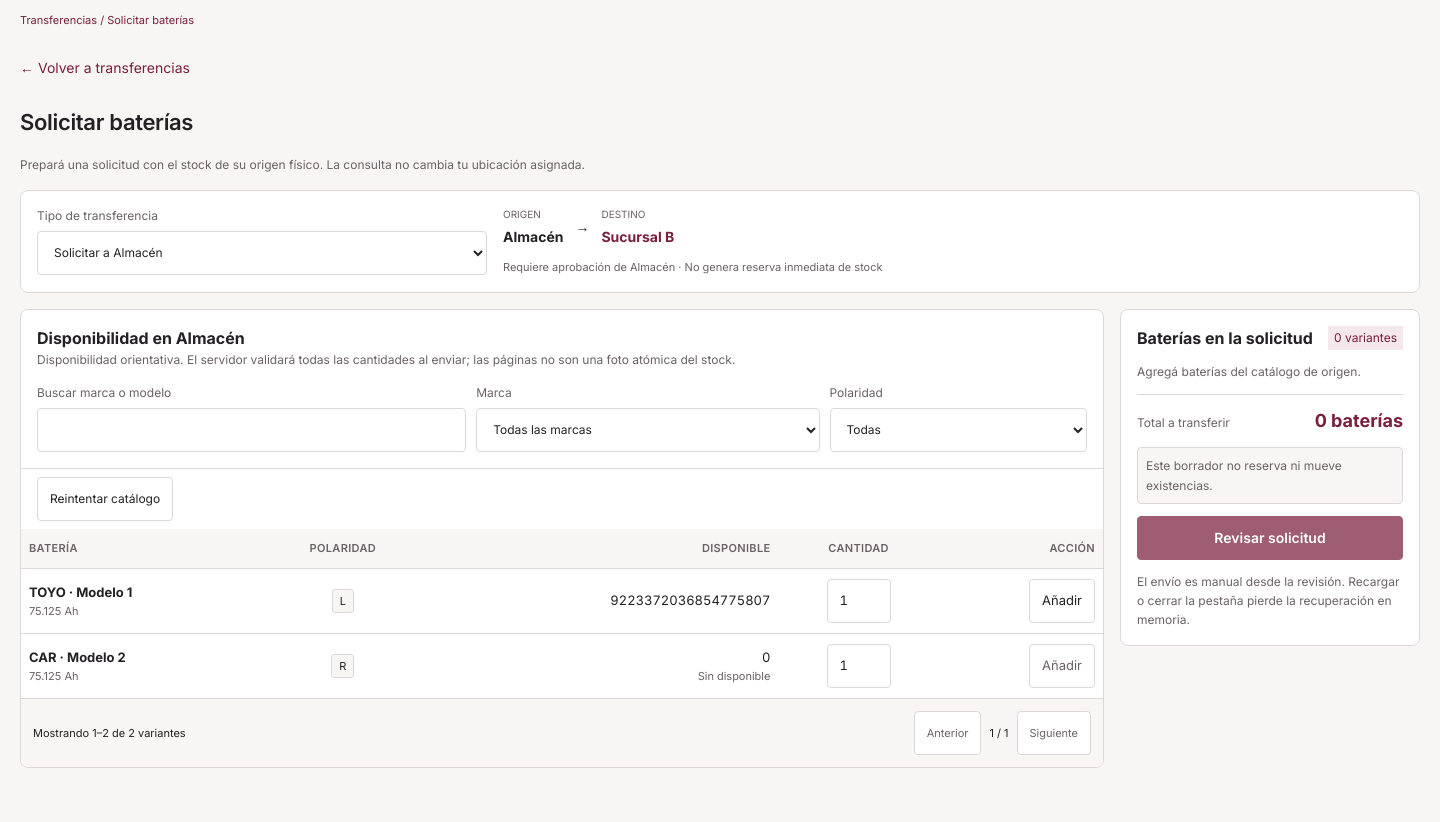
Test: R04b2b workspace › uses all three physical routes for assigned branch 3
Expected: the button with aria-label "Añadir Modelo 1 L" is shown, [1029,579,1095,623]
Expected: the text "Sucursal B" is shown, [602,226,674,247]
Select "Solicitar a Sucursal A" in the dropdown labelled "Tipo de transferencia" at point(262, 253), box [37,231,487,275]
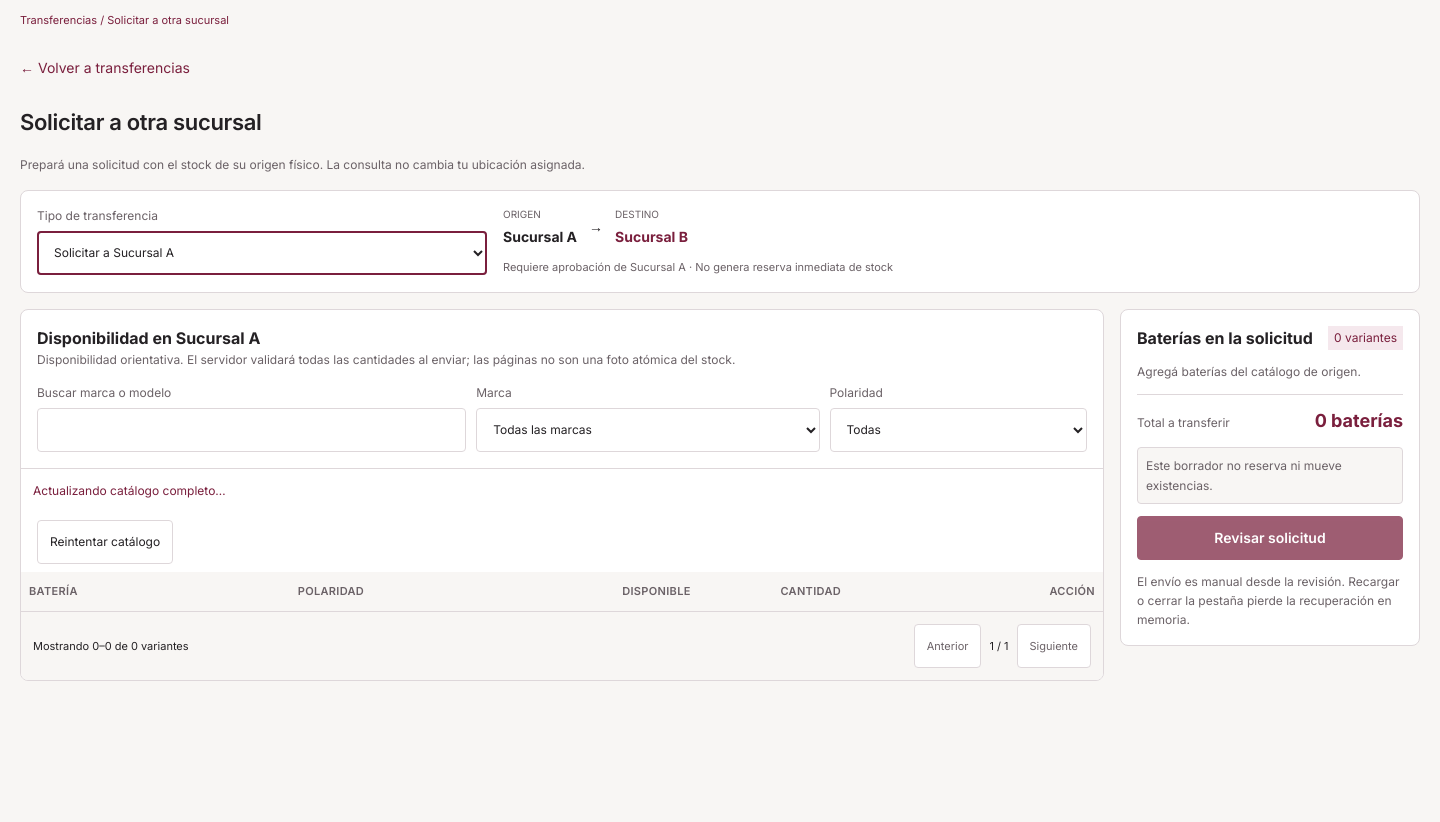
Select "Proponer envío a Almacén" in the dropdown labelled "Tipo de transferencia" at point(262, 253), box [37,231,487,275]
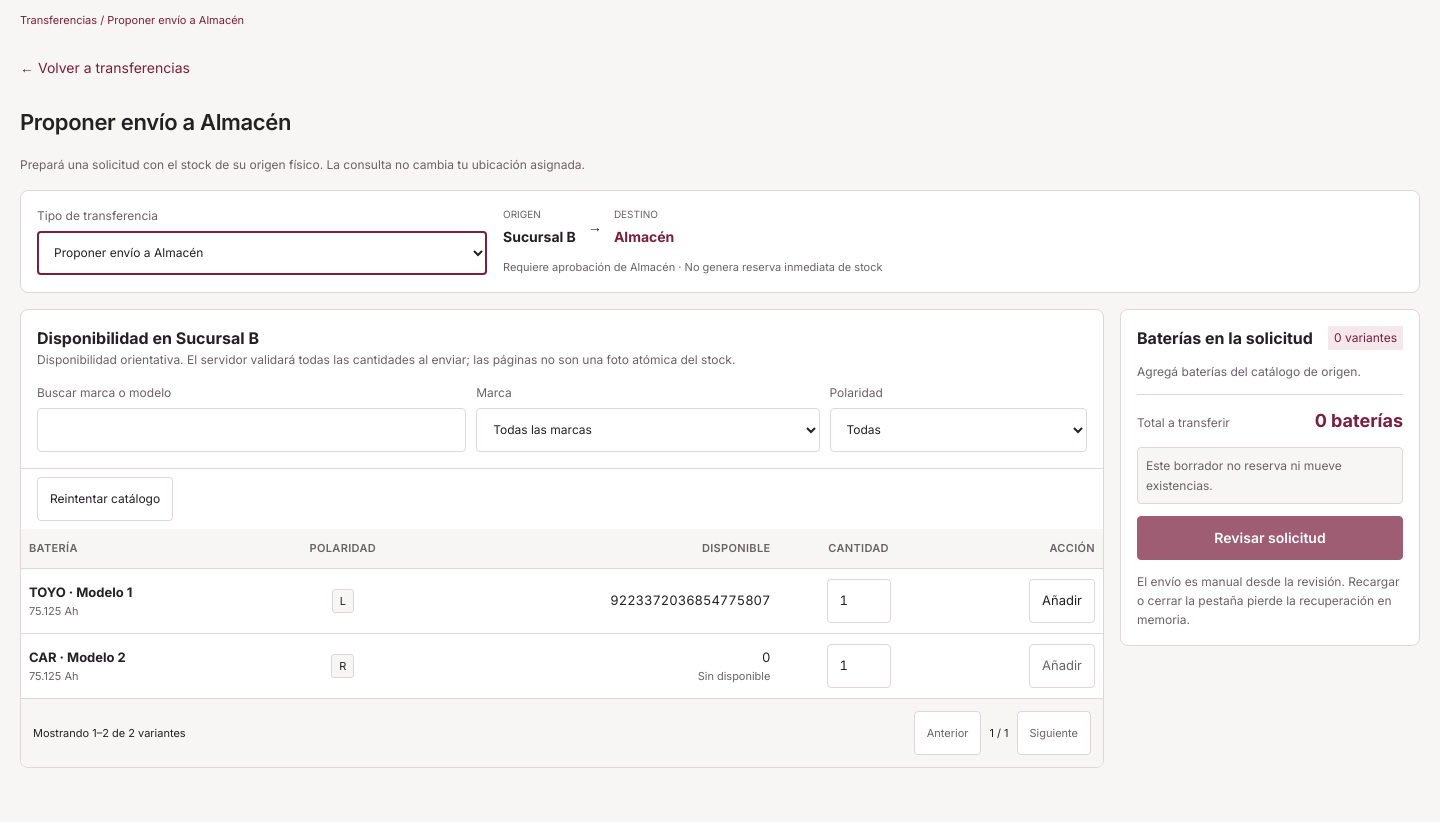
Result: the text "Almacén" is shown at [614,226,674,247]
Result: the text "Requiere aprobación de Almacén · No genera reserva inmediata de stock" is shown at [503,260,882,274]
